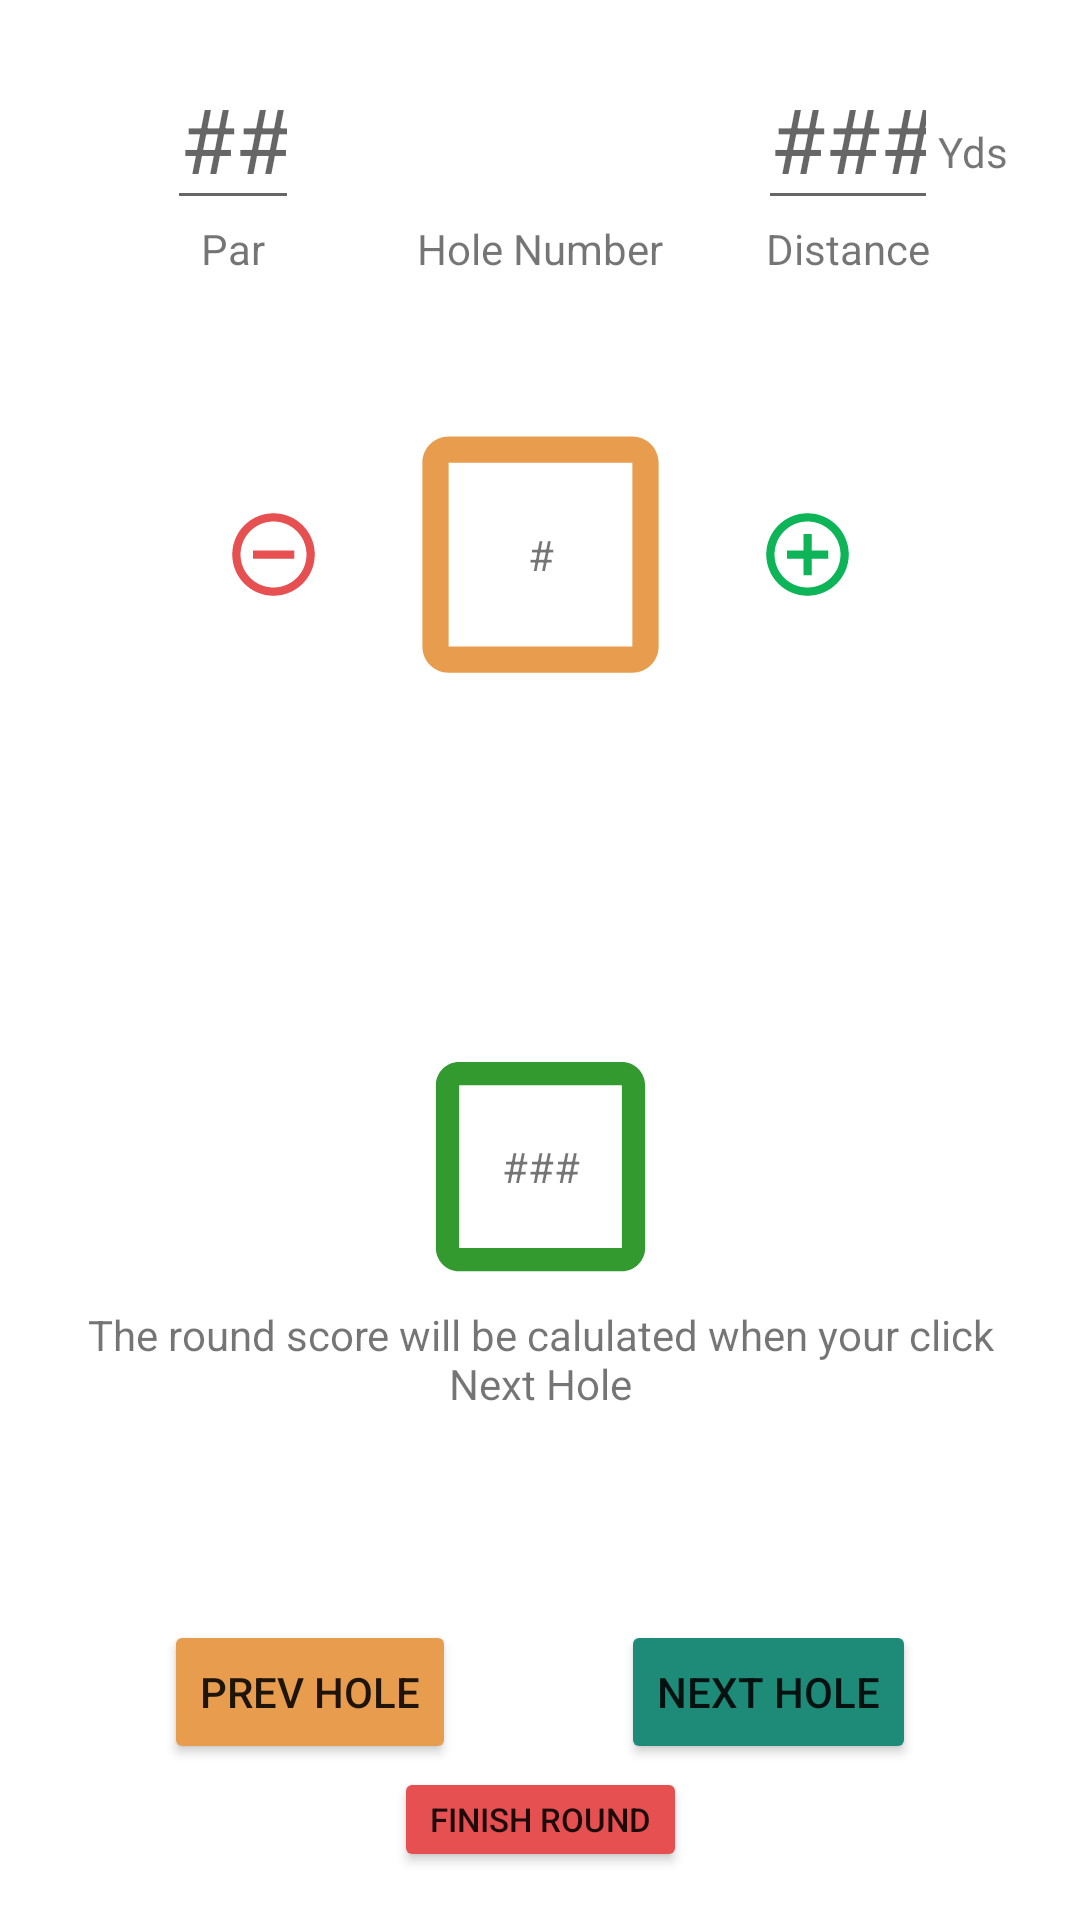

Icons on this 1080x1920 Android screen, each with the point to tap as (x,y):
add circle: (807,554)
Subtract Stroke from total Count: (273,554)
